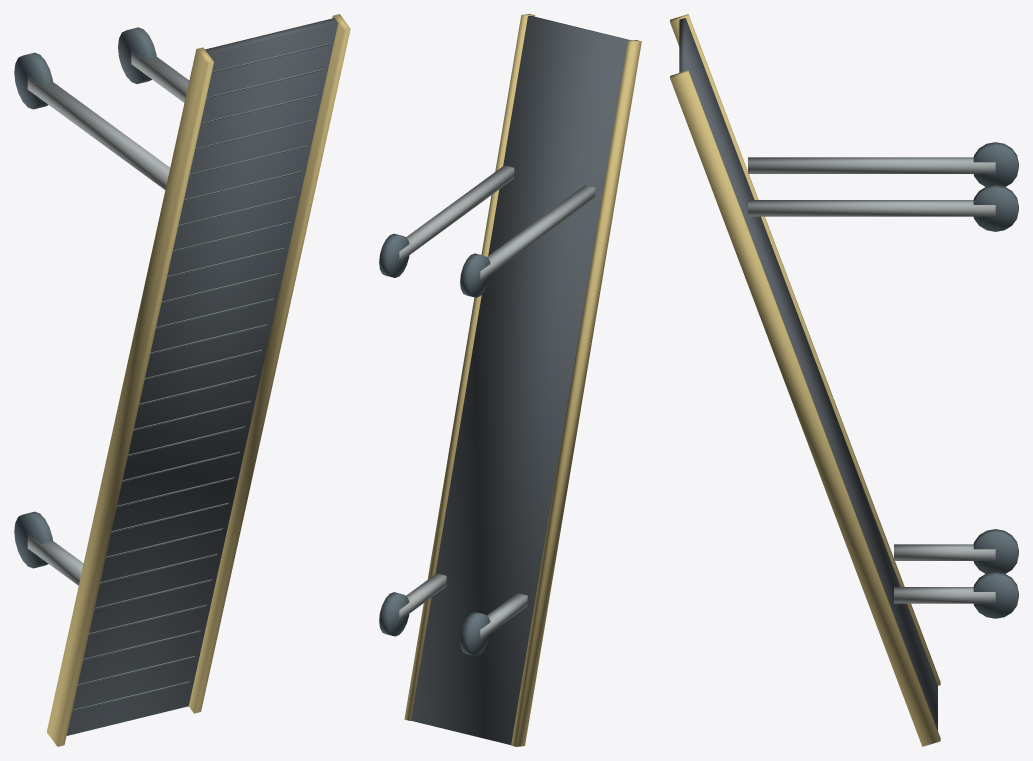
3 renders of one model, left to right at view 1: azimuth 30°, elevation 25°; view 2: azimuth 150°, elevation 25°; view 3: azimuth 270°, elevation 25°, orthographic. The views are drawn at different scales.
Parts seen in each view (by area): view 1: belt, edge_r, edge_l, leg_1.04_-3.4000000000000004, wheel_1.56_-3.4000000000000004, wheel_1.04_-5.6000000000000005, wheel_1.04_-3.4000000000000004, leg_1.56_-3.4000000000000004, leg_1.04_-5.6000000000000005; view 2: belt, edge_r, edge_l, leg_1.04_-3.4000000000000004, leg_1.56_-3.4000000000000004, wheel_1.04_-5.6000000000000005, wheel_1.04_-3.4000000000000004, wheel_1.56_-3.4000000000000004, wheel_1.56_-5.6000000000000005, leg_1.04_-5.6000000000000005, leg_1.56_-5.6000000000000005; view 3: edge_l, belt, leg_1.04_-3.4000000000000004, leg_1.56_-3.4000000000000004, edge_r, leg_1.04_-5.6000000000000005, leg_1.56_-5.6000000000000005, wheel_1.56_-5.6000000000000005, wheel_1.56_-3.4000000000000004, wheel_1.04_-5.6000000000000005, wheel_1.04_-3.4000000000000004.
Part boxes in pixels (<box>): belt: <box>66,18,338,735</box>; edge_r: <box>47,47,213,746</box>; edge_l: <box>188,14,350,713</box>; leg_1.04_-3.4000000000000004: <box>27,76,169,189</box>; wheel_1.56_-3.4000000000000004: <box>118,27,156,83</box>; wheel_1.04_-5.6000000000000005: <box>14,511,52,568</box>; wheel_1.04_-3.4000000000000004: <box>14,52,52,109</box>; leg_1.56_-3.4000000000000004: <box>131,50,189,102</box>; leg_1.04_-5.6000000000000005: <box>27,535,83,585</box>; belt: <box>411,16,631,744</box>; edge_r: <box>511,40,641,746</box>; edge_l: <box>404,14,534,720</box>; leg_1.04_-3.4000000000000004: <box>480,185,595,281</box>; leg_1.56_-3.4000000000000004: <box>399,165,514,262</box>; wheel_1.04_-5.6000000000000005: <box>460,612,490,656</box>; wheel_1.04_-3.4000000000000004: <box>460,253,490,297</box>; wheel_1.56_-3.4000000000000004: <box>379,233,409,277</box>; wheel_1.56_-5.6000000000000005: <box>379,592,409,636</box>; leg_1.04_-5.6000000000000005: <box>480,593,527,640</box>; leg_1.56_-5.6000000000000005: <box>399,573,446,620</box>; edge_l: <box>670,70,940,746</box>; belt: <box>679,18,937,730</box>; leg_1.04_-3.4000000000000004: <box>748,157,995,173</box>; leg_1.56_-3.4000000000000004: <box>748,200,995,216</box>; edge_r: <box>670,14,940,685</box>; leg_1.04_-5.6000000000000005: <box>894,544,995,560</box>; leg_1.56_-5.6000000000000005: <box>894,587,995,603</box>; wheel_1.56_-5.6000000000000005: <box>973,571,1018,618</box>; wheel_1.56_-3.4000000000000004: <box>973,185,1018,231</box>; wheel_1.04_-5.6000000000000005: <box>973,529,1018,573</box>; wheel_1.04_-3.4000000000000004: <box>973,142,1018,186</box>.
Bounding box in the file's own units: 0.72 × 3.83 × 1.8.
